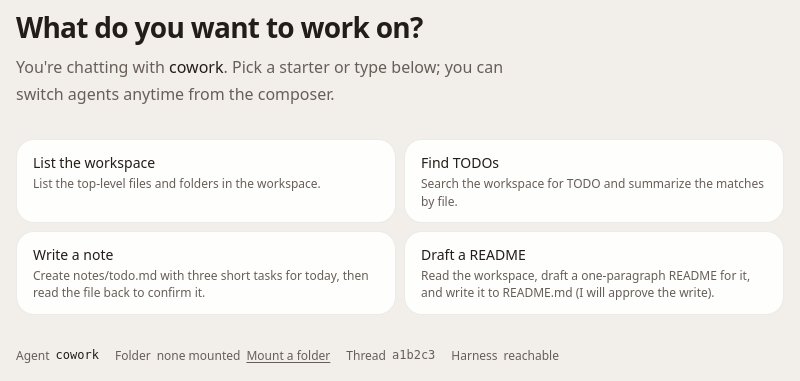
choosing where the thread runs › mounts a folder from the readout where the browser can
Click the button "Mount a folder": (288, 355) [246,347,330,364]
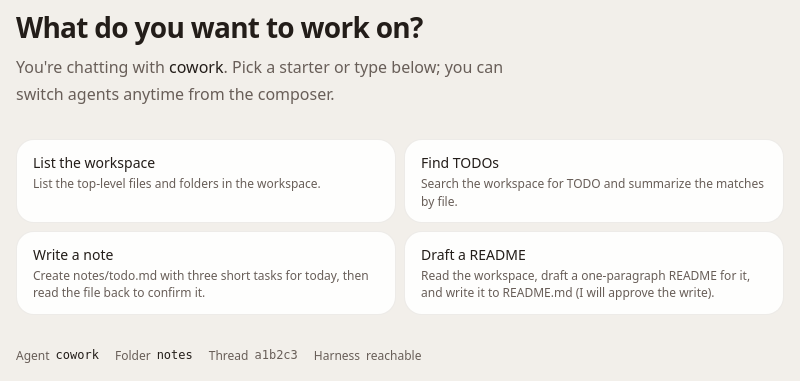
expect the text "notes" is shown: met, box [157,347,193,364]
expect the button "Mount a folder" is gone: met
